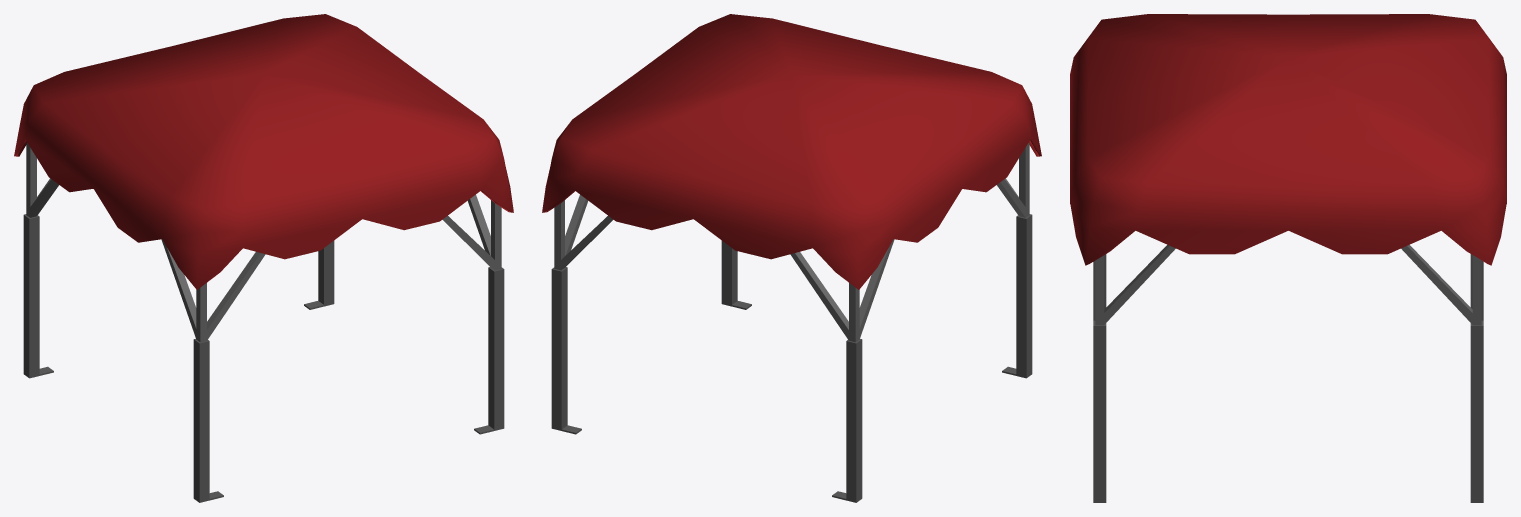
Rendered from fbx_tent.fbx.
3 views of the same model, side by side, from view 1: azimuth 30°, elevation 25°; view 2: azimuth 150°, elevation 25°; view 3: azimuth 270°, elevation 25° (orthographic). The views are drawn at different scales.
Visible parts, largest first — view 1: tent_red; view 2: tent_red; view 3: tent_red.
Part boxes in pixels (<box>): tent_red: <box>14,14,513,502</box>; tent_red: <box>542,14,1041,502</box>; tent_red: <box>1070,14,1506,502</box>.
Bounding box in the file's own units: 6.71 × 6.15 × 6.71.
